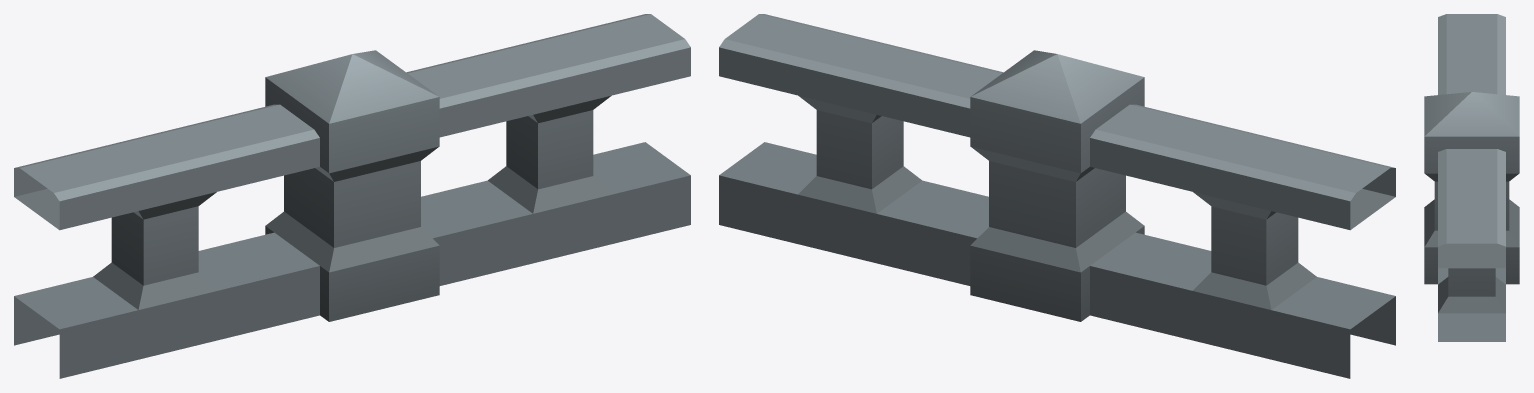
Rendered from barrier_col.fbx.
3 renders of one model, left to right at view 1: azimuth 30°, elevation 25°; view 2: azimuth 150°, elevation 25°; view 3: azimuth 270°, elevation 25°, orthographic. The views are drawn at different scales.
Visible parts, largest first — view 1: barrier_column; view 2: barrier_column; view 3: barrier_column.
Part boxes in pixels (x1,y1,x2,y2): barrier_column: (14,14,690,378); barrier_column: (719,14,1395,378); barrier_column: (1424,14,1519,341).
Bounding box in the file's own units: 400 × 140 × 70.
Materials: 1 (1 with a texture image).
